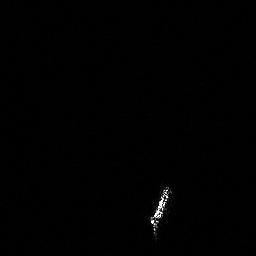ship: (147, 183, 172, 242)
